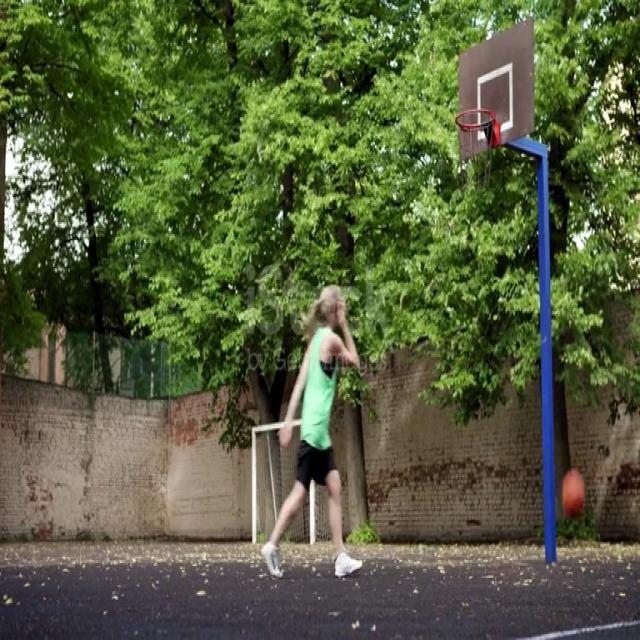ball: (562, 468, 585, 517)
